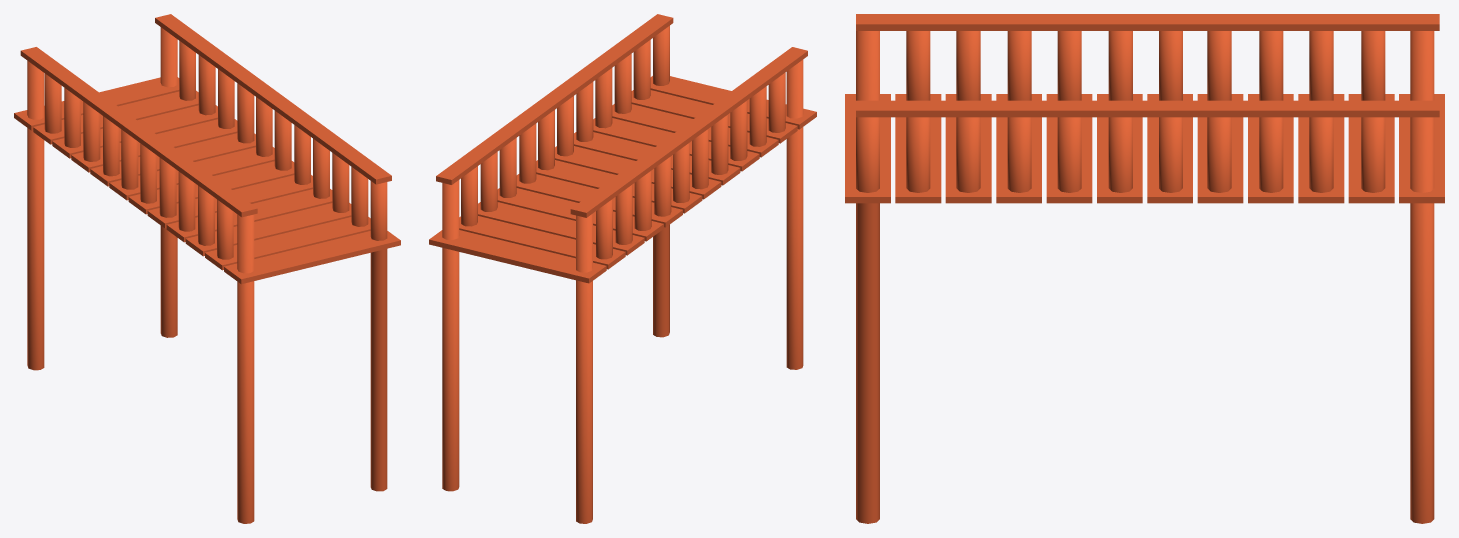
Rendered from Bridge.fbx.
3 views of the same model, side by side, from view 1: azimuth 30°, elevation 25°; view 2: azimuth 150°, elevation 25°; view 3: azimuth 270°, elevation 25° (orthographic). The views are drawn at different scales.
Parts seen in each view (by area): view 1: Bridge; view 2: Bridge; view 3: Bridge.
Boxes of the visible parts, box(x1,y1,x2,y2) form: Bridge: box(14, 14, 400, 523); Bridge: box(429, 14, 816, 523); Bridge: box(845, 14, 1444, 523).
Bounding box in the file's own units: 202 × 379 × 498.
